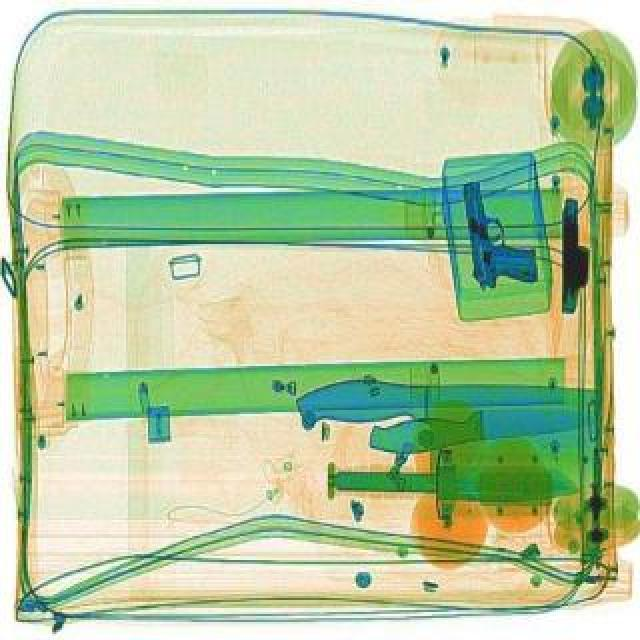gun: (456, 172, 540, 288), (556, 194, 592, 310)
knife: (292, 376, 600, 492), (364, 394, 602, 454), (332, 458, 580, 502)
